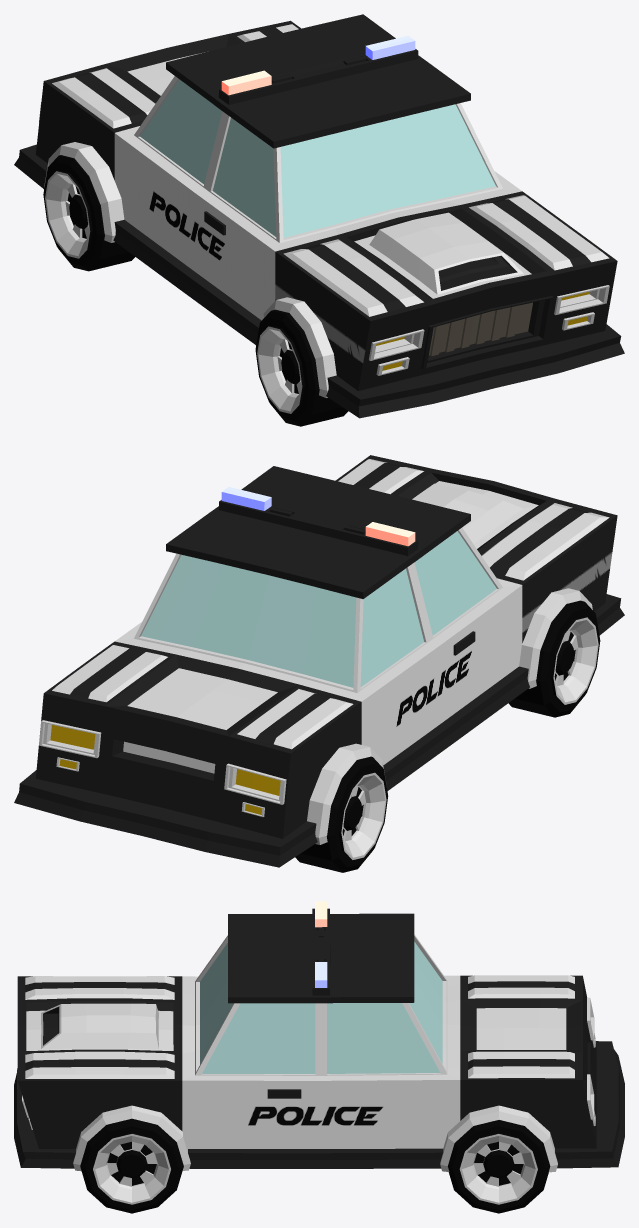
The model's file is asset.glb.
3 views of the same model, one above another, from view 1: azimuth 30°, elevation 25°; view 2: azimuth 150°, elevation 25°; view 3: azimuth 270°, elevation 25° (orthographic). The views are drawn at different scales.
Parts seen in each view (by area): view 1: Cube, f2, b2; view 2: Cube, f2, b2; view 3: Cube, f1, b1.
Boxes of the visible parts, x1=… form: Cube: x1=14, y1=14, x2=624, y2=418; f2: x1=255, y1=309, x2=348, y2=426; b2: x1=43, y1=155, x2=134, y2=271; Cube: x1=14, y1=455, x2=624, y2=867; f2: x1=508, y1=600, x2=600, y2=717; b2: x1=295, y1=756, x2=388, y2=872; Cube: x1=14, y1=901, x2=624, y2=1172; f1: x1=80, y1=1118, x2=183, y2=1213; b1: x1=447, y1=1120, x2=550, y2=1213.
Bounding box in the file's own units: 3.97 × 3.19 × 8.25.
Materials: 13 (2 with a texture image).
